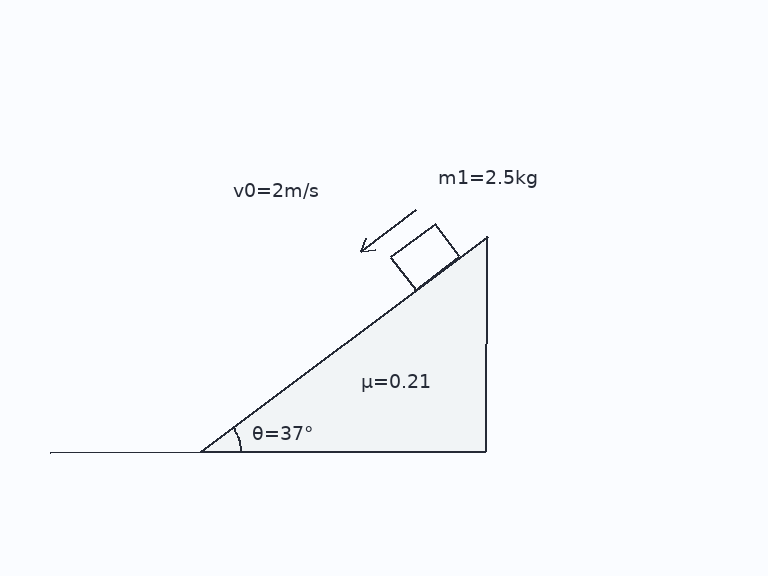block: (389, 222, 462, 292)
ramp: (199, 234, 488, 453)
